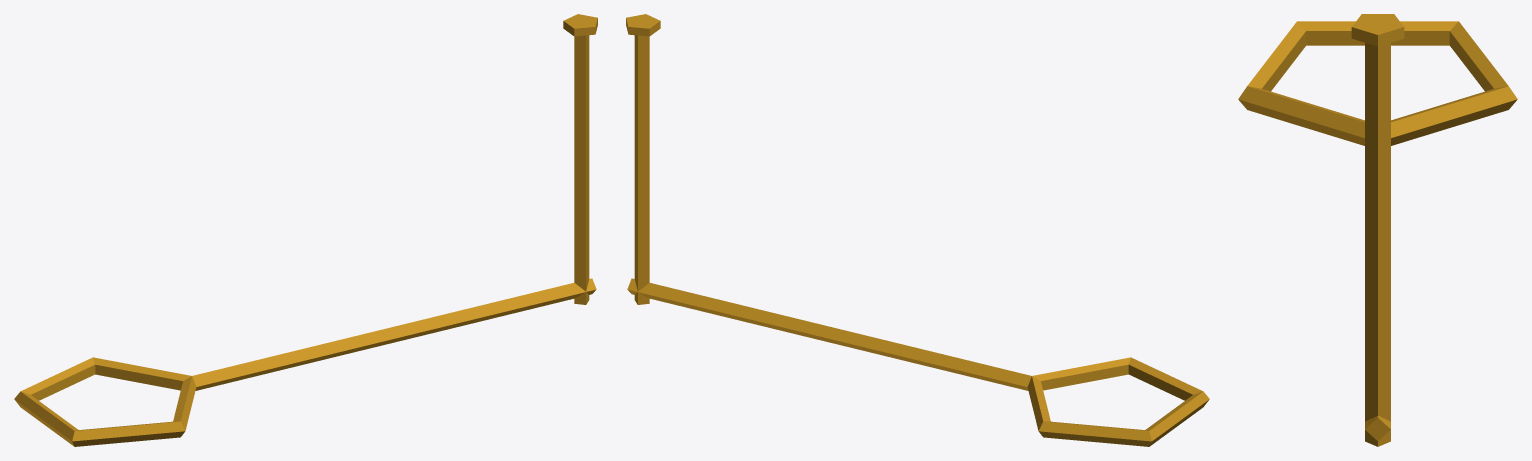
Rendered from Orrery_Arm.fbx.
3 views of the same model, side by side, from view 1: azimuth 30°, elevation 25°; view 2: azimuth 150°, elevation 25°; view 3: azimuth 270°, elevation 25° (orthographic). The views are drawn at different scales.
Parts seen in each view (by area): view 1: Orrery_Arm; view 2: Orrery_Arm; view 3: Orrery_Arm.
Part boxes in pixels (x1=…): Orrery_Arm: x1=14, y1=14, x2=597, y2=446; Orrery_Arm: x1=626, y1=14, x2=1209, y2=446; Orrery_Arm: x1=1238, y1=14, x2=1517, y2=446.
Bounding box in the file's own units: 1039 × 502 × 304.
